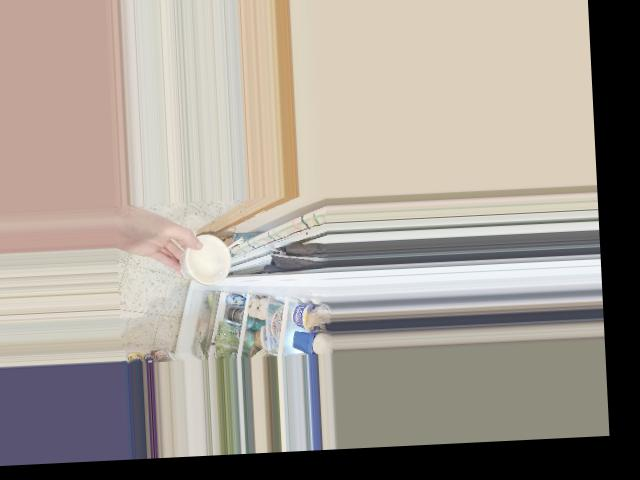cotage: (176, 239, 233, 285)
